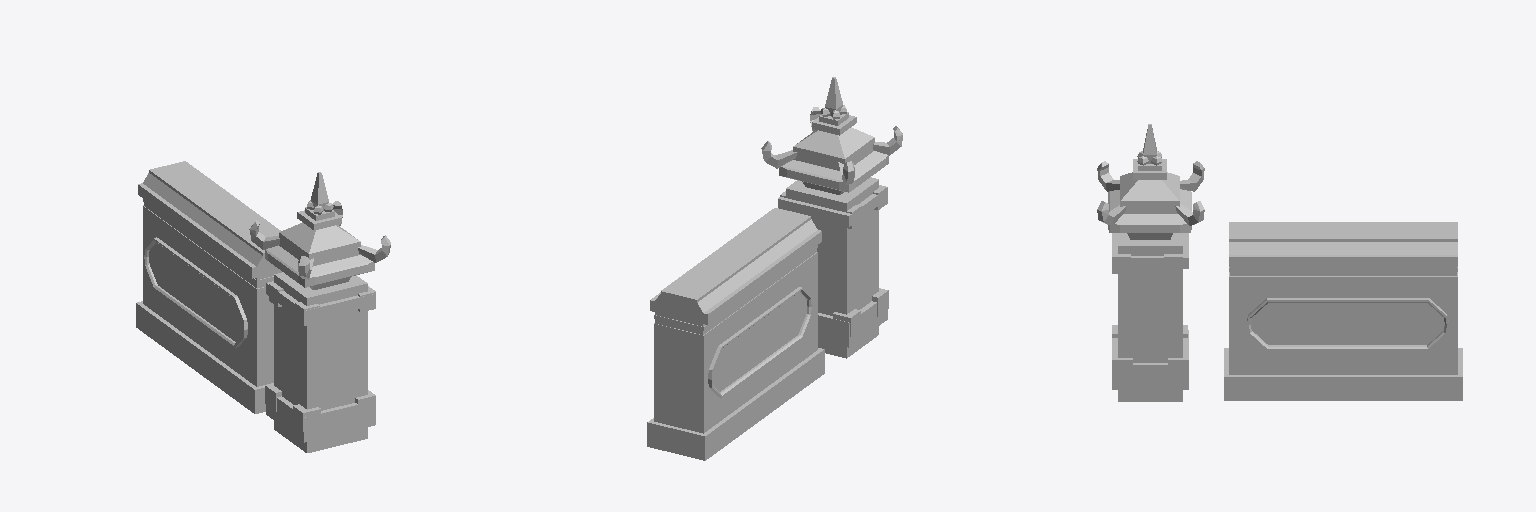
The model's file is Walls.obj.
3 views of the same model, side by side, from view 1: azimuth 30°, elevation 25°; view 2: azimuth 150°, elevation 25°; view 3: azimuth 270°, elevation 25° (orthographic).
Visible parts, largest first — view 1: pCylinder3 polySurface16 TD_Walls_mesh, polySurface13 TD_Walls_mesh, pCylinder3 polySurface15 TD_Walls_mesh; view 2: pCylinder3 polySurface16 TD_Walls_mesh, polySurface13 TD_Walls_mesh, pCylinder3 polySurface15 TD_Walls_mesh; view 3: pCylinder3 polySurface16 TD_Walls_mesh, polySurface13 TD_Walls_mesh, pCylinder3 polySurface14 TD_Walls_mesh.
Boxes of the visible parts, <box> form: pCylinder3 polySurface16 TD_Walls_mesh: <box>136,161,281,413</box>; polySurface13 TD_Walls_mesh: <box>249,172,390,452</box>; pCylinder3 polySurface15 TD_Walls_mesh: <box>143,237,247,347</box>; pCylinder3 polySurface16 TD_Walls_mesh: <box>647,208,824,460</box>; polySurface13 TD_Walls_mesh: <box>761,77,902,358</box>; pCylinder3 polySurface15 TD_Walls_mesh: <box>708,287,812,397</box>; pCylinder3 polySurface16 TD_Walls_mesh: <box>1224,222,1462,400</box>; polySurface13 TD_Walls_mesh: <box>1097,124,1204,401</box>; pCylinder3 polySurface14 TD_Walls_mesh: <box>1247,298,1448,350</box>.
Size of the model in its own units: 1.88 by 5.06 by 6.4.